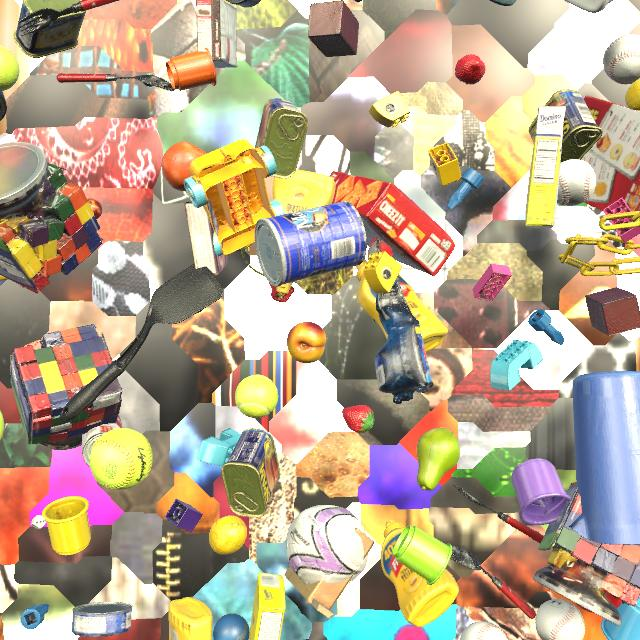ycb_002_master_chef_can: (254, 201, 367, 287)
ycb_003_cracker_box: (330, 171, 455, 276), (581, 95, 640, 212)
ycb_004_sugar_box: (525, 106, 566, 229), (249, 573, 286, 640)
ycb_005_tomato_soup_can: (82, 415, 122, 468)
ycb_006_mustard_bottle: (356, 259, 448, 352), (381, 520, 459, 627), (273, 169, 336, 294), (168, 597, 212, 640), (0, 275, 9, 281)
ycb_007_tuna_fish_can: (72, 602, 132, 637), (226, 0, 261, 7), (490, 0, 517, 6)
ycb_008_pudding_box: (184, 199, 228, 275), (196, 0, 237, 68)
ycb_010_potted_meat_can: (529, 89, 603, 162), (221, 428, 280, 518), (255, 98, 308, 179), (13, 0, 86, 58)
ycb_012_strawberry: (455, 54, 486, 85), (342, 405, 374, 433), (196, 309, 203, 314)
ycb_013_apple: (577, 591, 622, 613)
ycb_014_lemon: (209, 515, 247, 555), (625, 78, 640, 111)
ycb_015_peach: (287, 322, 326, 363)
ycb_016_pear: (417, 427, 460, 491)
ycb_017_orange: (162, 142, 206, 192)
